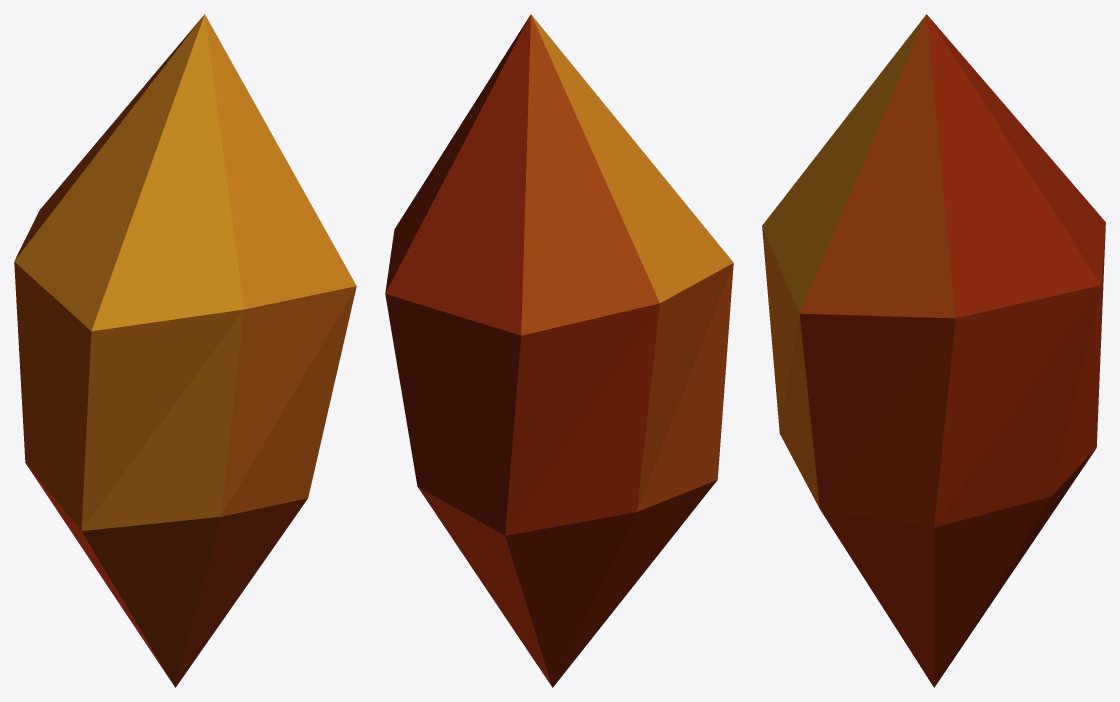
The model's file is Ningguang_FacetedGem.fbx.
3 views of the same model, side by side, from view 1: azimuth 30°, elevation 25°; view 2: azimuth 150°, elevation 25°; view 3: azimuth 270°, elevation 25° (orthographic). The views are drawn at different scales.
Parts seen in each view (by area): view 1: Ningguang_FacetedGem; view 2: Ningguang_FacetedGem; view 3: Ningguang_FacetedGem.
Part boxes in pixels (x1,y1,x2,y2): Ningguang_FacetedGem: (14, 14, 356, 687); Ningguang_FacetedGem: (385, 14, 733, 687); Ningguang_FacetedGem: (762, 14, 1105, 687).
Bounding box in the file's own units: 66.47 × 150 × 68.07.
